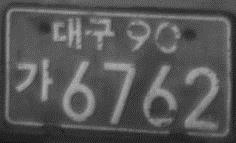0: (153, 20, 182, 54)
2: (182, 65, 222, 133)
6: (140, 64, 178, 128), (61, 59, 96, 123)
7: (101, 60, 137, 125)
9: (124, 18, 152, 52)
가: (15, 57, 54, 103)
대구_O: (50, 14, 115, 52)
